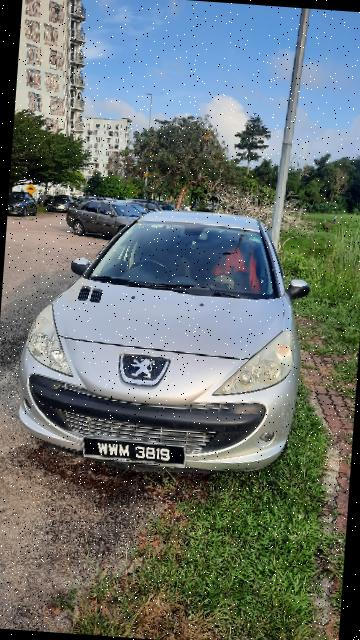License_Plate: (79, 435, 188, 471)
car: (9, 193, 315, 489)
